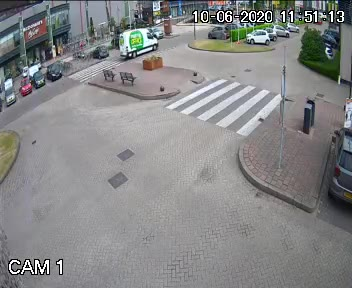car: (113, 27, 164, 56)
